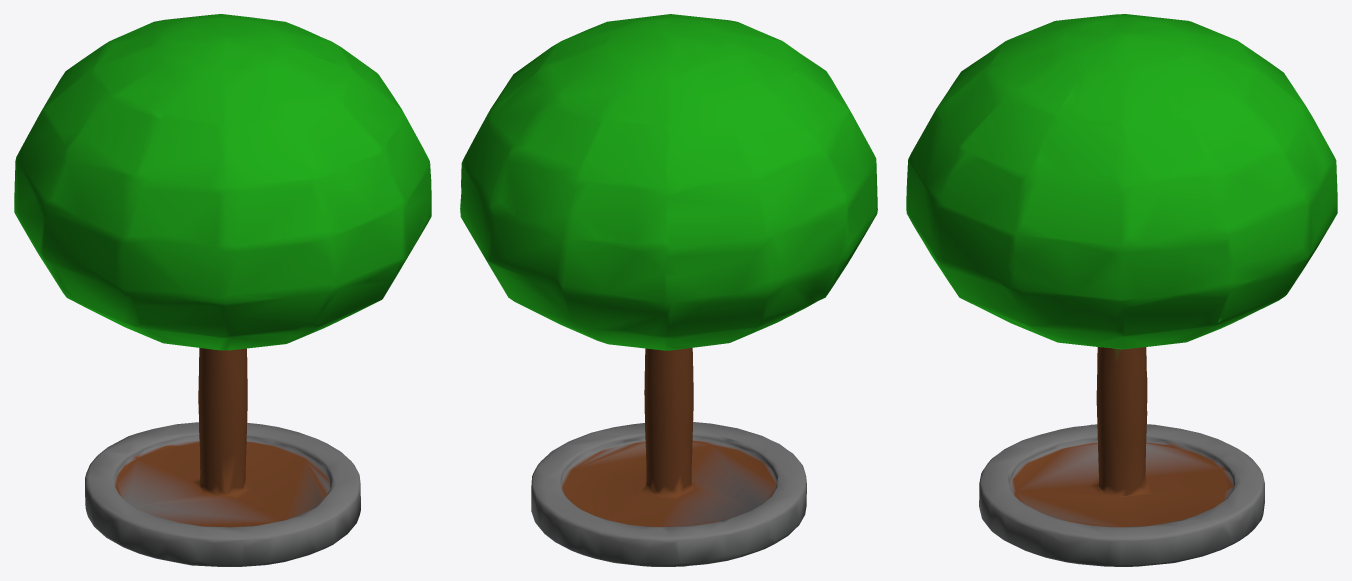
The model's file is gen3d-street-tree-lod0.glb.
3 renders of one model, left to right at view 1: azimuth 30°, elevation 25°; view 2: azimuth 150°, elevation 25°; view 3: azimuth 270°, elevation 25°, orthographic.
Parts seen in each view (by area): view 1: part_0; view 2: part_0; view 3: part_0.
Boxes of the visible parts, x1,y1,x2,y2 form: part_0: (14, 14, 431, 566); part_0: (460, 14, 877, 566); part_0: (906, 14, 1337, 566).
Size of the model in its own units: 0.7435 by 0.9998 by 0.7693.
